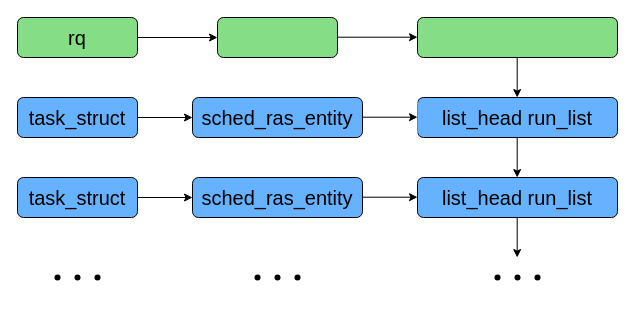
Some shapes in this 635 by 315 pixel diagram are drawn without their labels. Each missing label, with the centre of its shape:
"list_head queue" goes at pixel 517 37.
"ras_rq" goes at pixel 277 37.
